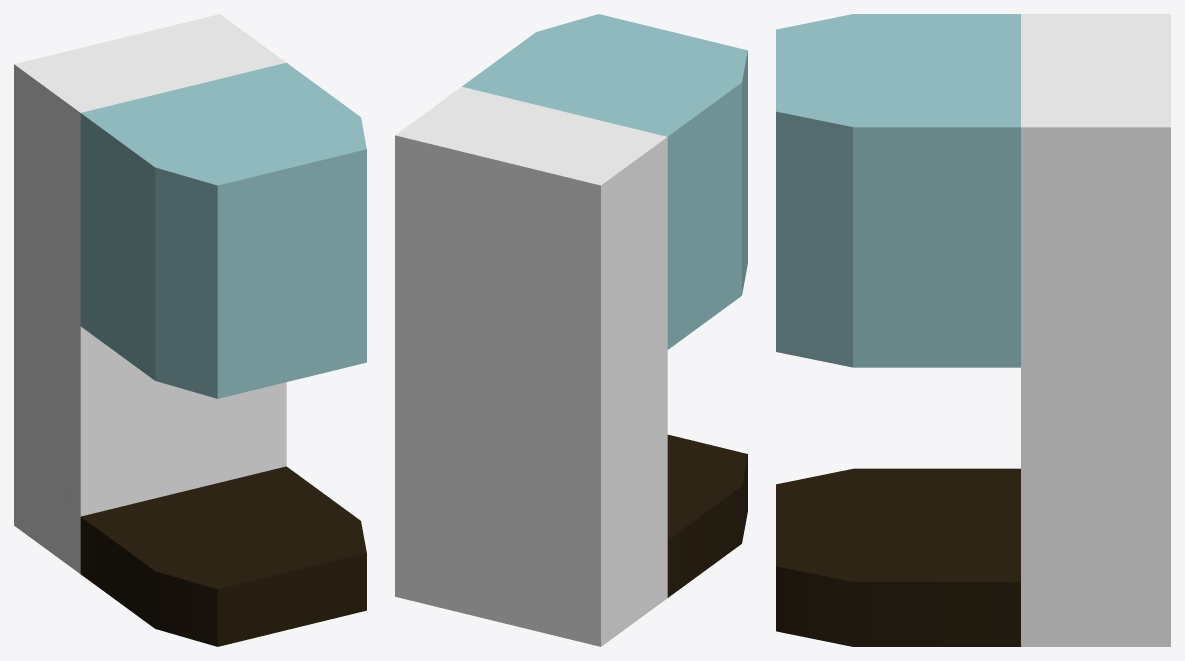
Rendered from Itr_Obj_Coffeepot_Body_06.FBX.
3 renders of one model, left to right at view 1: azimuth 30°, elevation 25°; view 2: azimuth 150°, elevation 25°; view 3: azimuth 270°, elevation 25°, orthographic. The views are drawn at different scales.
Parts seen in each view (by area): view 1: Itr_Obj_Coffeepot_Body_06; view 2: Itr_Obj_Coffeepot_Body_06; view 3: Itr_Obj_Coffeepot_Body_06.
Part boxes in pixels (x1,y1,x2,y2): Itr_Obj_Coffeepot_Body_06: (14,14,366,646); Itr_Obj_Coffeepot_Body_06: (395,14,747,646); Itr_Obj_Coffeepot_Body_06: (776,14,1170,646).
Size of the model in its own units: 7.13 by 15.27 by 10.52.
